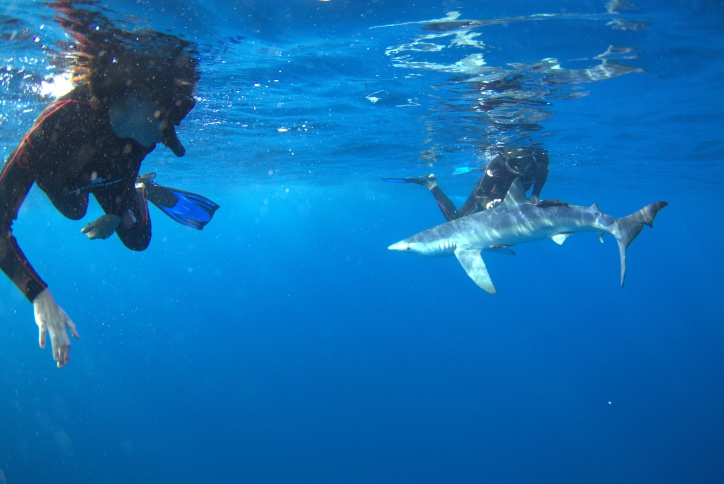Azul: (374, 168, 671, 293)
